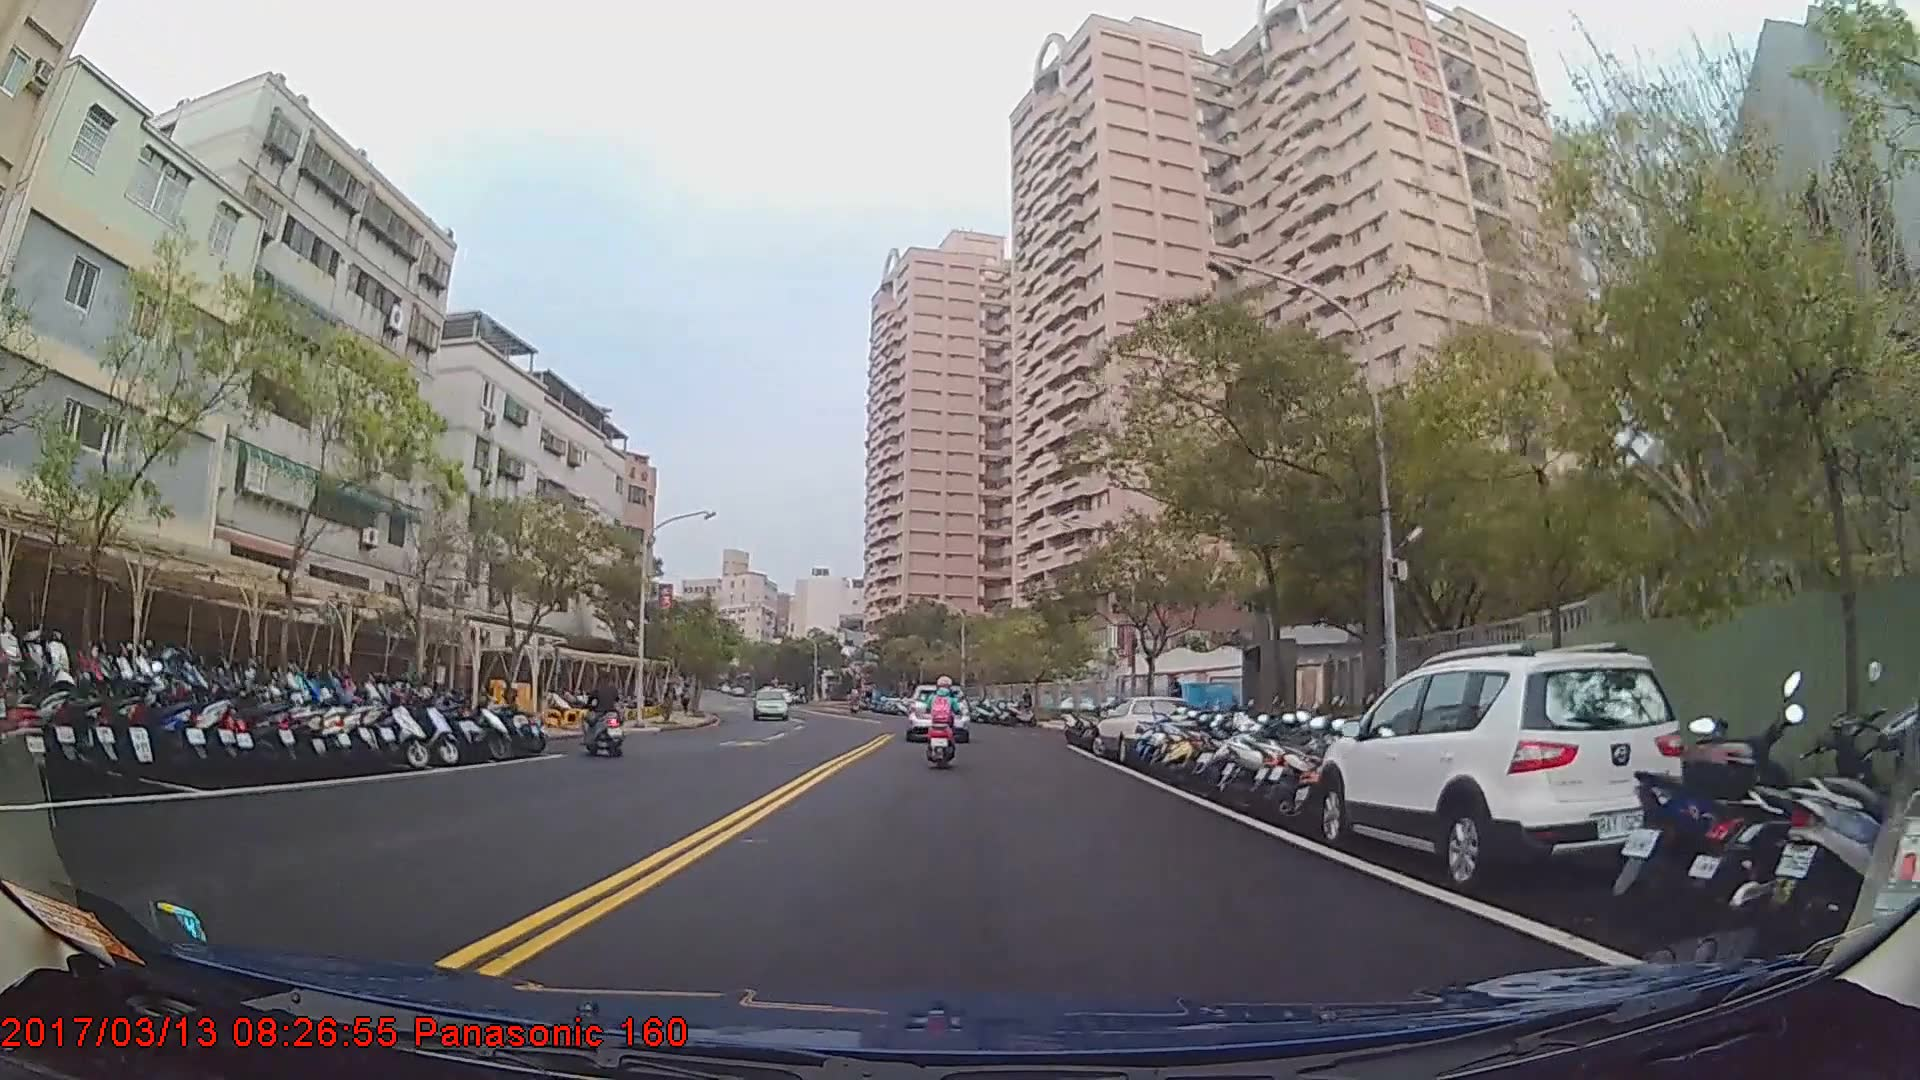rider: (577, 666, 629, 757), (921, 672, 964, 769)
vehicle: (1318, 642, 1694, 890), (1092, 693, 1197, 764), (903, 681, 969, 738), (749, 686, 790, 718)
